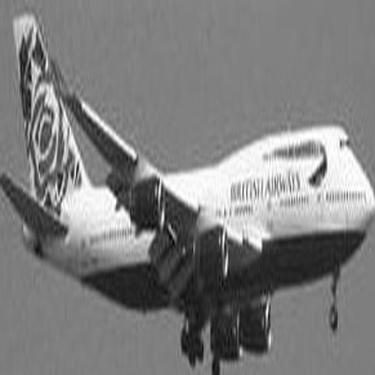airplane: (2, 2, 357, 342)
